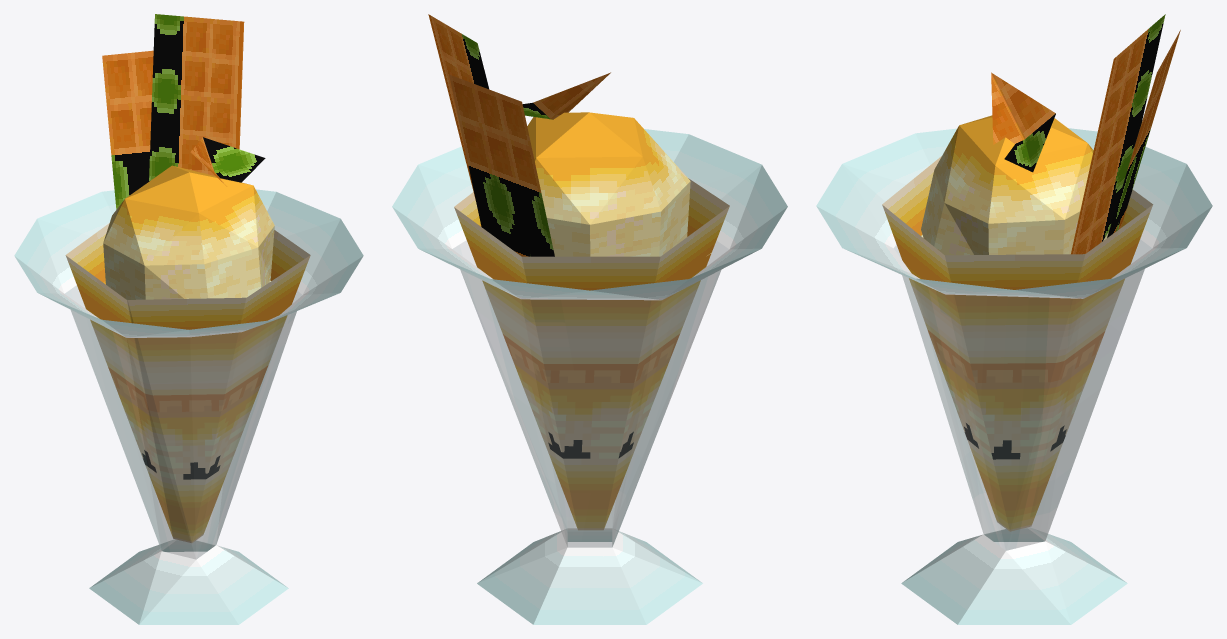
3 views of the same model, side by side, from view 1: azimuth 30°, elevation 25°; view 2: azimuth 150°, elevation 25°; view 3: azimuth 270°, elevation 25° (orthographic). The views are drawn at different scales.
Parts seen in each view (by area): view 1: parfait_w; view 2: parfait_w; view 3: parfait_w.
Part boxes in pixels (<box>): parfait_w: <box>14,14,363,624</box>; parfait_w: <box>392,14,787,624</box>; parfait_w: <box>816,14,1212,624</box>.
Size of the model in its own units: 0.6074 by 0.9897 by 0.6055.
Materials: 4 (4 with a texture image).
